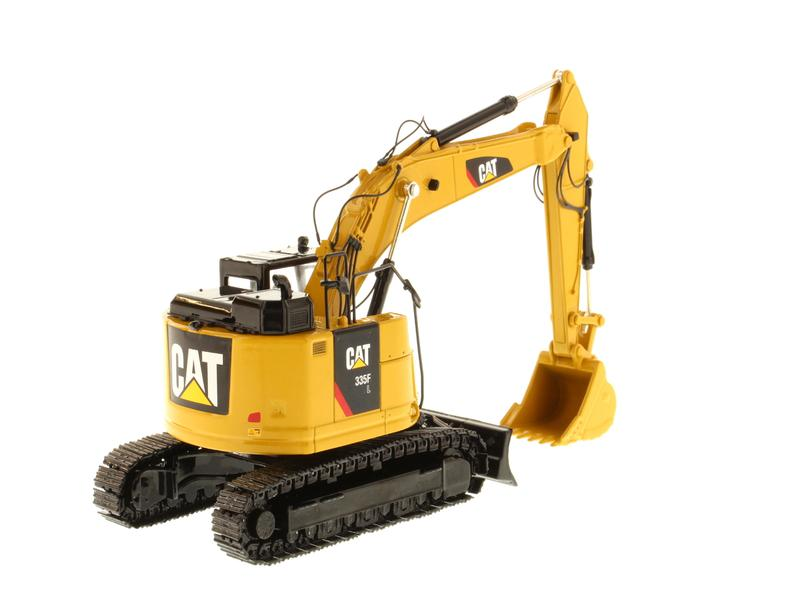shovel: (88, 63, 624, 563)
